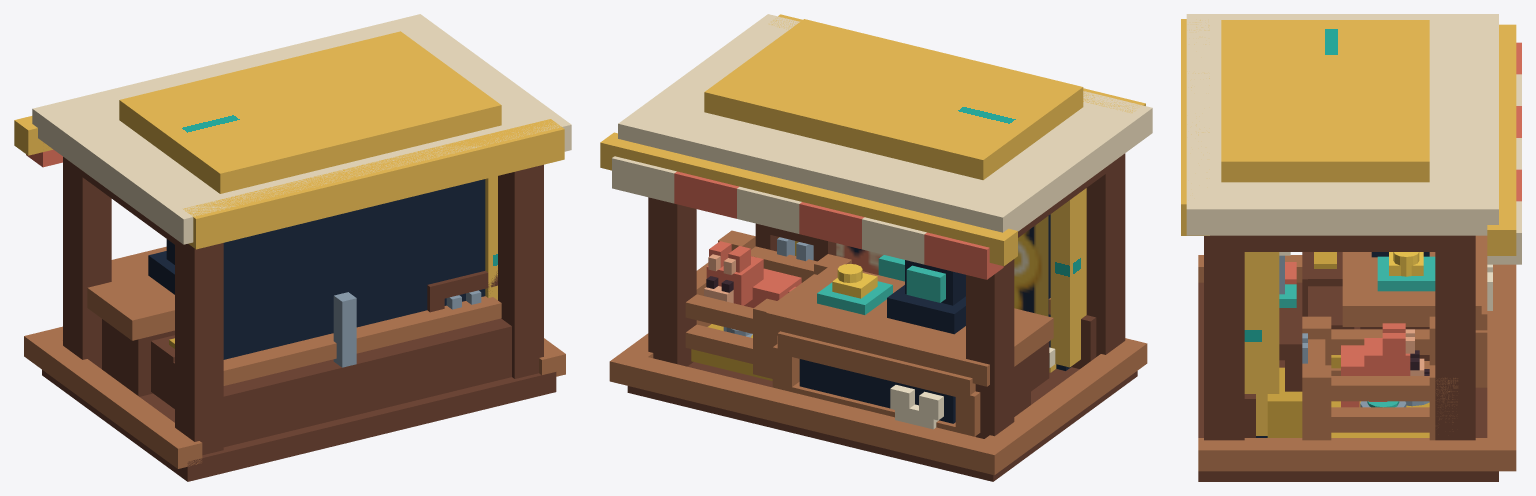
The model's file is KLC_Kiosk_01_SellAnimals.fbx.
3 renders of one model, left to right at view 1: azimuth 30°, elevation 25°; view 2: azimuth 150°, elevation 25°; view 3: azimuth 270°, elevation 25°, orthographic. The views are drawn at different scales.
Visible parts, largest first — view 1: Canopy_Ridge, Panel_Back, Canopy_Main, Kiosk_BackPlinth, Canopy_BackEdge, Kiosk_BaseDeck, Post_Back_R, Post_Back_L, Post_Front_R, Base_RightTrim, Back_Shelf, Counter_Top (+11 smaller); view 2: Canopy_Ridge, Canopy_Main, Base_FrontTrim, Counter_Top, Canopy_FrontEdge, Post_Front_L, Post_Back_R, Post_Front_R, Base_RightTrim, Frame_Left, Kiosk_BaseDeck, Counter_FrontTrim_Top (+31 smaller); view 3: Canopy_Main, Canopy_Ridge, Base_LeftTrim, Post_Back_L, Post_Front_L, Base_FrontTrim, Frame_Right, Counter_Top, Kiosk_BaseDeck, Canopy_FrontEdge, Beam_Left, Pen_Rail_Left_Low (+26 smaller).
Boxes of the visible parts, <box> form: Canopy_Ridge: <box>119,31,501,193</box>; Panel_Back: <box>223,179,485,359</box>; Canopy_Main: <box>32,14,571,244</box>; Kiosk_BackPlinth: <box>223,318,511,447</box>; Canopy_BackEdge: <box>183,119,564,249</box>; Kiosk_BaseDeck: <box>42,370,556,481</box>; Post_Back_R: <box>175,239,223,455</box>; Post_Back_L: <box>498,166,543,378</box>; Post_Front_R: <box>63,157,111,368</box>; Base_RightTrim: <box>32,336,202,468</box>; Back_Shelf: <box>223,296,501,385</box>; Counter_Top: <box>87,246,174,340</box>; Canopy_Ridge: <box>704,19,1083,179</box>; Canopy_Main: <box>618,14,1152,232</box>; Base_FrontTrim: <box>609,351,1008,475</box>; Counter_Top: <box>766,264,1053,386</box>; Canopy_FrontEdge: <box>600,132,1017,265</box>; Post_Front_L: <box>648,197,696,366</box>; Post_Back_R: <box>1086,154,1125,356</box>; Post_Front_R: <box>966,259,1014,438</box>; Base_RightTrim: <box>984,338,1147,467</box>; Frame_Left: <box>1050,188,1086,367</box>; Kiosk_BaseDeck: <box>627,362,1137,481</box>; Counter_FrontTrim_Top: <box>777,331,975,400</box>; Canopy_Main: <box>1186,14,1498,235</box>; Canopy_Ridge: <box>1221,20,1429,182</box>; Base_LeftTrim: <box>1198,438,1498,471</box>; Post_Back_L: <box>1204,235,1244,440</box>; Post_Front_L: <box>1435,235,1475,440</box>; Base_FrontTrim: <box>1487,264,1516,471</box>; Frame_Right: <box>1244,252,1279,435</box>; Counter_Top: <box>1342,235,1481,326</box>; Kiosk_BaseDeck: <box>1198,282,1498,481</box>; Canopy_FrontEdge: <box>1487,24,1516,255</box>; Beam_Left: <box>1204,235,1475,251</box>; Pen_Rail_Left_Low: <box>1331,407,1429,432</box>.
Bounding box in the file's own units: 525 × 356 × 369.
Materials: 14 (14 with a texture image).
